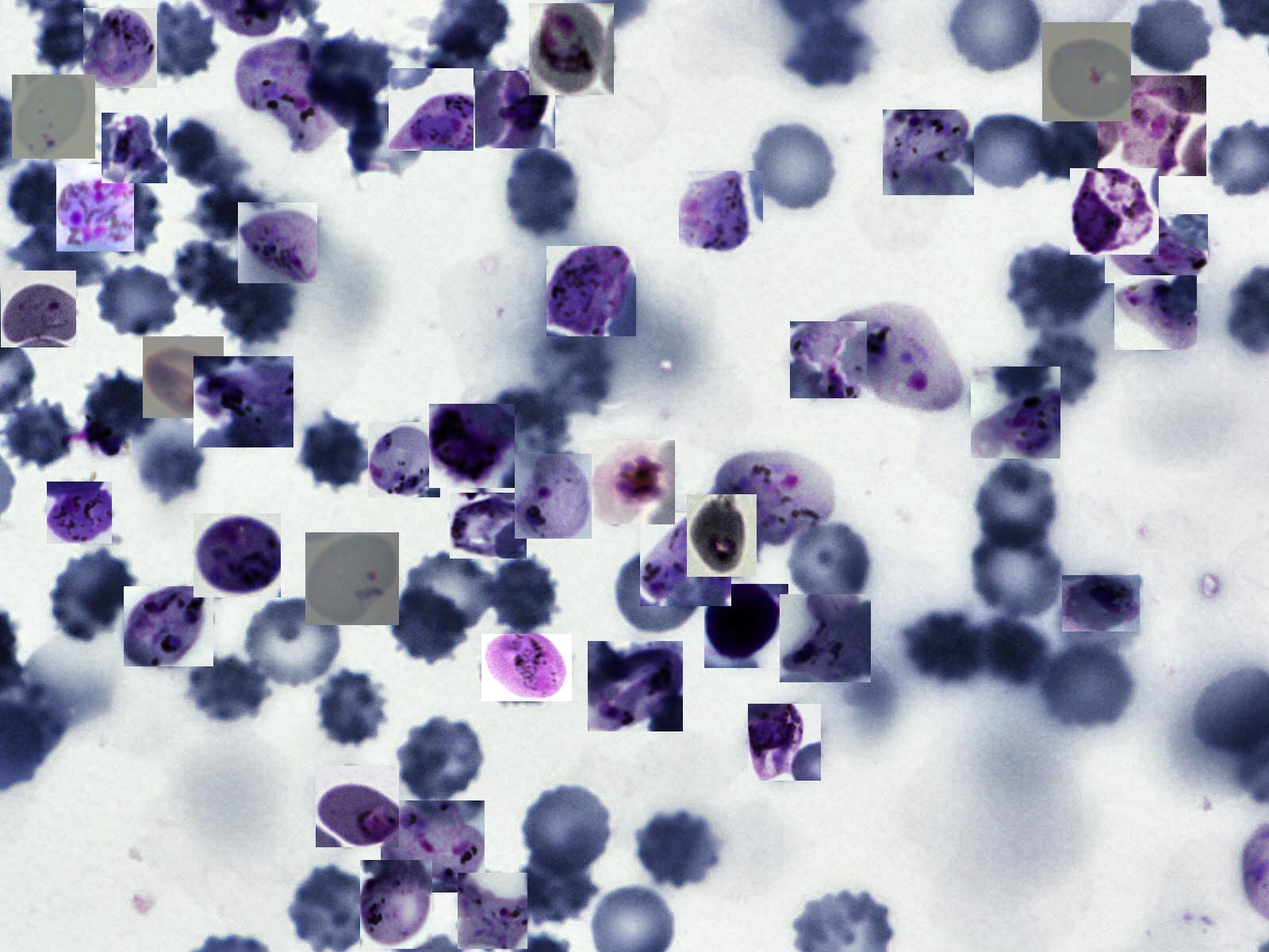Infected: (833, 304, 962, 411), (711, 449, 837, 549), (1098, 75, 1206, 176), (237, 36, 324, 151), (381, 800, 485, 892), (194, 356, 293, 447), (1042, 22, 1131, 121), (305, 532, 399, 625), (640, 512, 731, 606), (588, 641, 683, 731), (971, 367, 1060, 459), (546, 246, 636, 336), (780, 594, 871, 682), (581, 440, 675, 524), (883, 109, 974, 195), (529, 3, 614, 95), (1070, 168, 1159, 255), (194, 514, 281, 598), (429, 404, 515, 488), (124, 587, 213, 667), (1105, 214, 1208, 283), (704, 584, 788, 668), (12, 75, 95, 159), (389, 68, 473, 151), (679, 171, 763, 253), (56, 164, 134, 251), (316, 766, 399, 847), (143, 336, 224, 418), (515, 454, 592, 539), (360, 860, 432, 949), (238, 202, 317, 283), (1114, 275, 1197, 350), (475, 71, 555, 148), (481, 634, 572, 701), (790, 322, 867, 399), (83, 8, 157, 88), (687, 494, 757, 577), (1, 271, 76, 347), (748, 704, 821, 781), (369, 422, 440, 497), (458, 873, 527, 949), (450, 493, 527, 559), (102, 113, 167, 183), (1062, 575, 1140, 631), (48, 482, 112, 543)
Uninfected: (746, 119, 842, 216), (966, 523, 1065, 616), (389, 716, 488, 806), (244, 599, 341, 687), (1040, 639, 1136, 727), (401, 551, 496, 639), (1009, 242, 1104, 328), (524, 784, 612, 874), (614, 546, 705, 633), (47, 552, 136, 640), (962, 110, 1053, 194), (632, 808, 723, 890), (531, 324, 611, 417), (216, 261, 301, 347), (481, 390, 572, 470), (974, 465, 1059, 550), (127, 3, 219, 80), (92, 263, 183, 340), (788, 521, 870, 606), (289, 867, 372, 950), (505, 144, 578, 237), (305, 36, 393, 113), (79, 370, 157, 456), (311, 670, 392, 749), (517, 850, 598, 928), (386, 585, 468, 662), (1129, 1, 1214, 75), (5, 229, 115, 286), (297, 413, 374, 492), (485, 554, 561, 634), (2, 396, 78, 473), (88, 178, 164, 255), (167, 117, 246, 190), (1033, 109, 1110, 183), (785, 19, 870, 86), (188, 653, 269, 723), (170, 237, 246, 311), (904, 612, 983, 682), (1023, 330, 1096, 404), (974, 616, 1053, 684), (137, 431, 207, 502), (190, 181, 266, 243), (8, 160, 76, 229)
